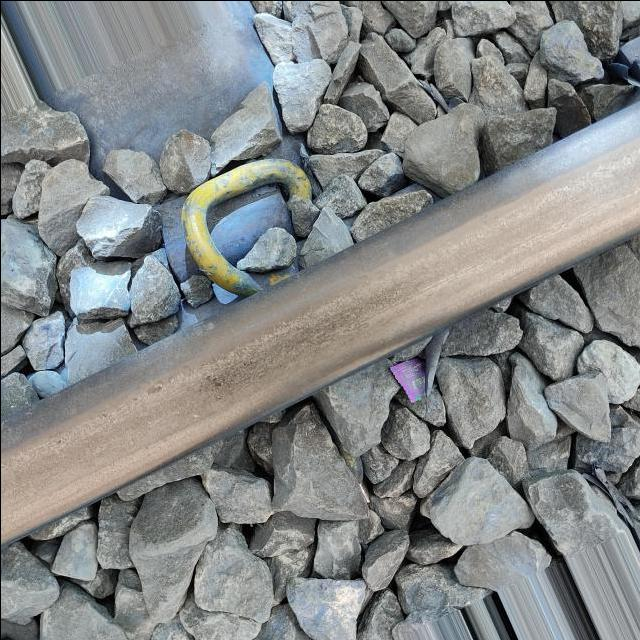broken_rail_medium: (205, 374, 223, 388), (144, 382, 162, 396)
